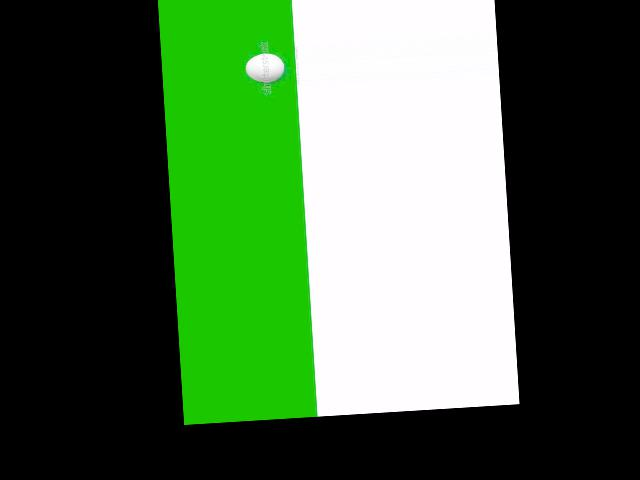egg: (245, 52, 285, 83)
